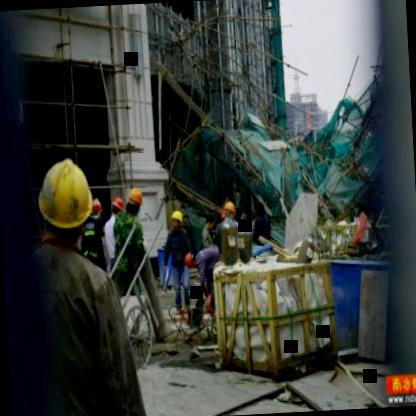helmet: (31, 158, 97, 245), (126, 186, 146, 218), (108, 188, 126, 220), (86, 192, 104, 221), (168, 206, 184, 230), (184, 249, 199, 272)
